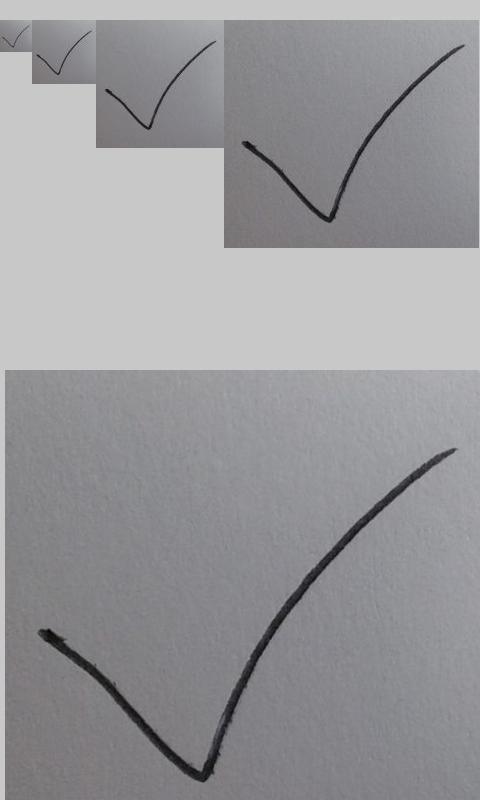check_box: (37, 450, 454, 783), (242, 44, 464, 223), (105, 41, 217, 130), (37, 30, 92, 75), (2, 25, 30, 48)
